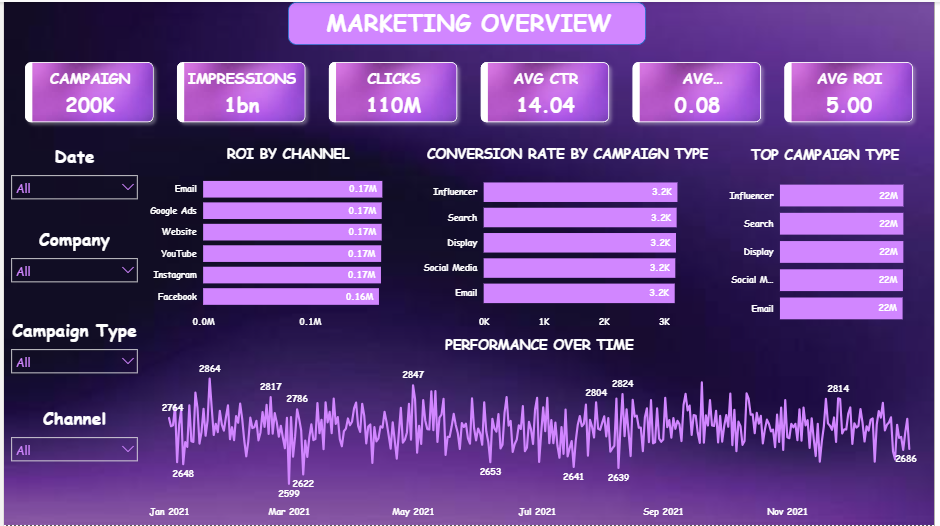

The dashboard page shown, as its layout file describes it:
{"tool":"powerbi","page":{"name":"MARKETING OVERVIEW","canvas":[1280,720],"ordinal":0},"visuals":[{"type":"image","box":[0,0,1280,720.6],"z":0},{"type":"slicer","title":"Date","fields":{"Values":["marketing_Cleaned.Date"]},"box":[0,195.7,194.3,102.9],"z":1000},{"type":"slicer","title":"Channel","fields":{"Values":["marketing_Cleaned.Channel_Used"]},"box":[0,555.7,194.3,90],"z":2000},{"type":"slicer","title":"Campaign Type","fields":{"Values":["marketing_Cleaned.Campaign_Type"]},"box":[0,434.3,194.3,100],"z":3000},{"type":"slicer","title":"Company","fields":{"Values":["marketing_Cleaned.Company"]},"box":[0,310,194.3,98.6],"z":4000},{"type":"cardVisual","fields":{"Data":["CountNonNull(marketing_Cleaned.Campaign_ID)","Sum(marketing_Cleaned.Impressions)","Sum(marketing_Cleaned.Clicks)","Avg(marketing_Cleaned.CTR)","Avg(marketing_Cleaned.Conversion_Rate)","Avg(marketing_Cleaned.ROI)"]},"box":[0,53.7,1280,141.8],"z":5000},{"type":"clusteredBarChart","title":"ROI BY CHANNEL","fields":{"Category":["marketing_Cleaned.Channel_Used"],"Y":["Sum(marketing_Cleaned.ROI)"]},"box":[194.1,195.4,393.6,262.9],"z":6000},{"type":"clusteredBarChart","title":"CONVERSION RATE BY CAMPAIGN TYPE","fields":{"Category":["marketing_Cleaned.Campaign_Type"],"Y":["Sum(marketing_Cleaned.Conversion_Rate)"]},"box":[571.2,195.4,408.8,262.9],"z":7000},{"type":"lineChart","title":"PERFORMANCE OVER TIME","fields":{"Category":["marketing_Cleaned.Date"],"Y":["Sum(marketing_Cleaned.ROI)"]},"box":[194.1,458.3,1085.9,261.5],"z":8000},{"type":"barChart","title":"TOP CAMPAIGN TYPE","fields":{"Y":["Sum(marketing_Cleaned.Clicks)"],"Category":["marketing_Cleaned.Campaign_Type"]},"box":[980,196.8,300,261.5],"z":9000},{"type":"shape","box":[390.9,0,492.7,59.2],"z":10000},{"type":"textbox","box":[0,0,1280,55.1],"z":11000}]}

Visuals, with their boxes in screenshot pixels (x1, y1, x2, y2), scaled from the page's 1280x720 canvas onto the 940x526 screenshot:
image: <region>0, 0, 939, 525</region>
"Date" slicer: <region>0, 143, 143, 218</region>
"Channel" slicer: <region>0, 406, 143, 472</region>
"Campaign Type" slicer: <region>0, 317, 143, 390</region>
"Company" slicer: <region>0, 226, 143, 299</region>
cardVisual - CountNonNull(marketing_Cleaned.Campaign_ID) x Sum(marketing_Cleaned.Impressions): <region>0, 39, 939, 143</region>
"ROI BY CHANNEL" clusteredBarChart: <region>143, 143, 432, 335</region>
"CONVERSION RATE BY CAMPAIGN TYPE" clusteredBarChart: <region>419, 143, 720, 335</region>
"PERFORMANCE OVER TIME" lineChart: <region>143, 335, 939, 525</region>
"TOP CAMPAIGN TYPE" barChart: <region>720, 144, 939, 335</region>
shape: <region>287, 0, 649, 43</region>
textbox: <region>0, 0, 939, 40</region>
